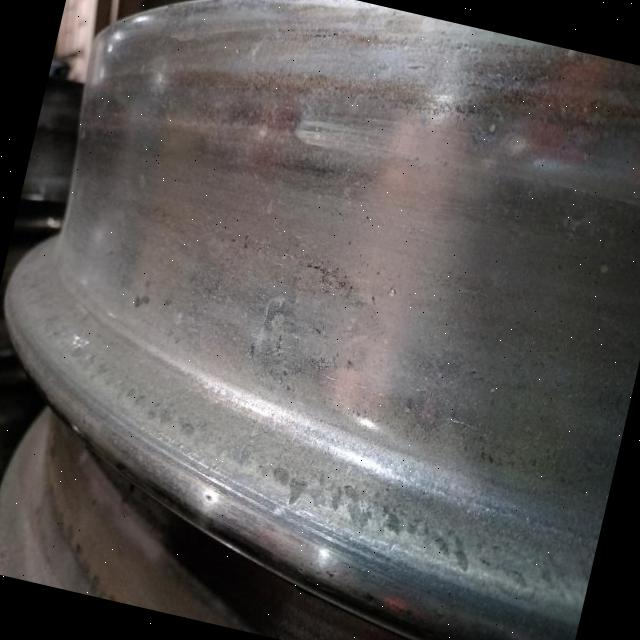Rollerpile: (243, 248, 380, 400)
